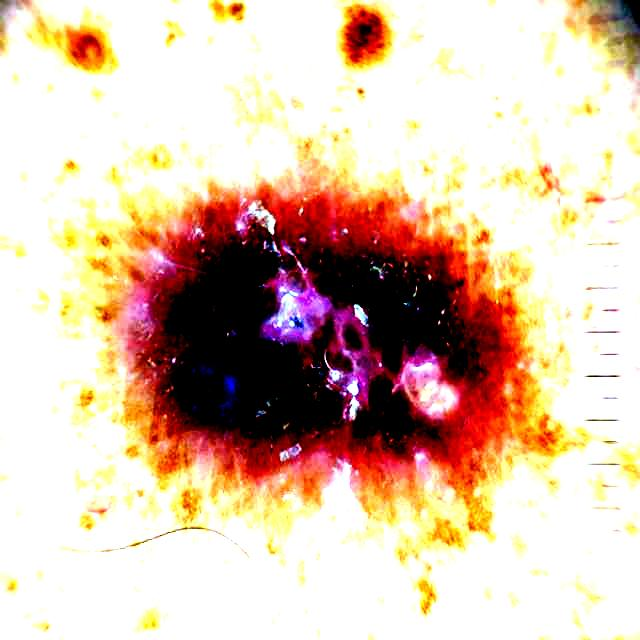DF: (127, 201, 486, 486)
